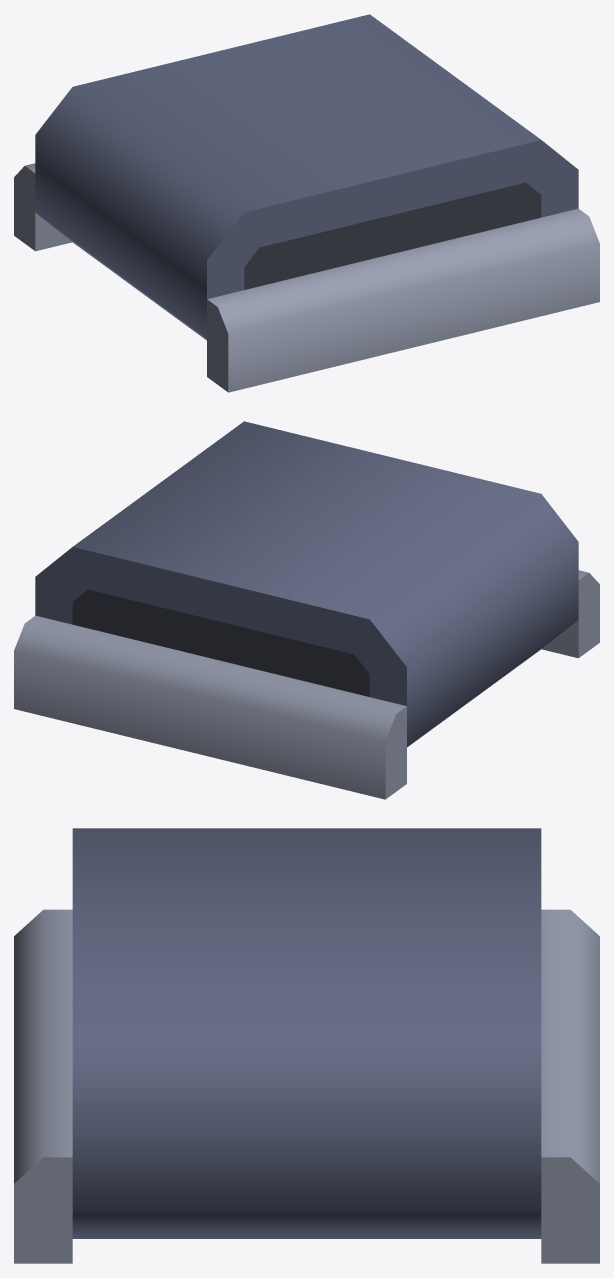
File: ConveyorSides-transformed.glb
The picture shows the model from 3 angles, top to bottom: view 1: azimuth 30°, elevation 25°; view 2: azimuth 150°, elevation 25°; view 3: azimuth 270°, elevation 25°; orthographic projection. The views are drawn at different scales.
Parts seen in each view (by area): view 1: Group (×2); view 2: Group (×2); view 3: Group (×2).
Part boxes in pixels (x1,y1,x2,y2): Group (×2): (14, 14, 599, 392); Group (×2): (14, 421, 599, 799); Group (×2): (14, 828, 599, 1263).
Size of the model in its own units: 1 by 0.4 by 1.
